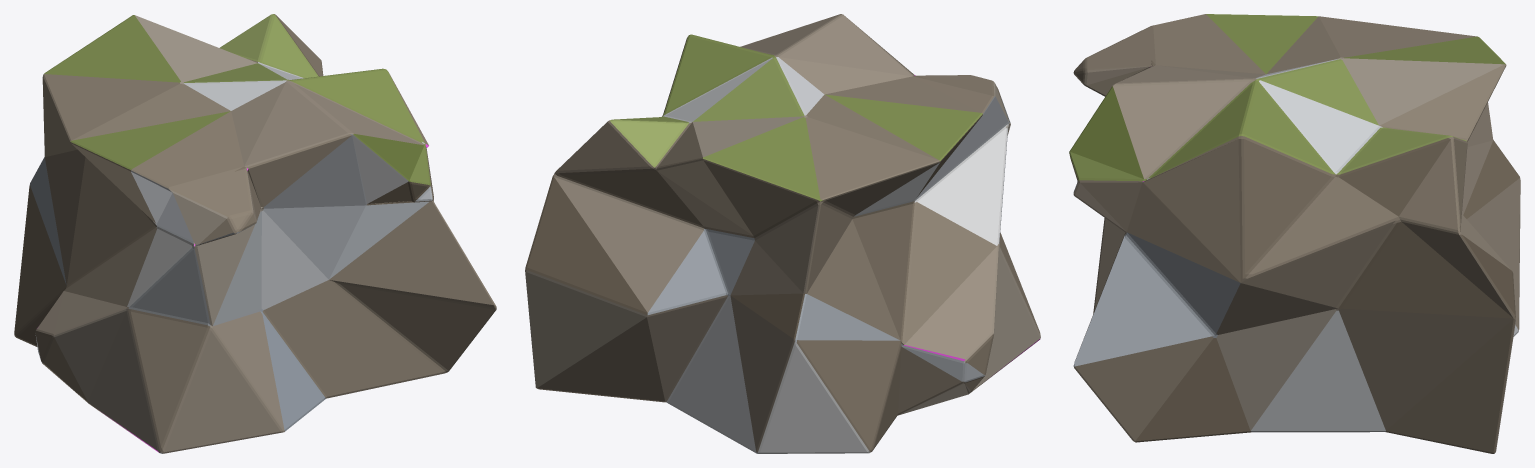
File: MineableSilver_b.fbx
3 renders of one model, left to right at view 1: azimuth 30°, elevation 25°; view 2: azimuth 150°, elevation 25°; view 3: azimuth 270°, elevation 25°, orthographic. The views are drawn at different scales.
Parts seen in each view (by area): view 1: MineableSilver_b; view 2: MineableSilver_b; view 3: MineableSilver_b.
Part boxes in pixels (x1,y1,x2,y2): MineableSilver_b: (14,14,496,453); MineableSilver_b: (525,14,1040,453); MineableSilver_b: (1069,14,1520,453).
Size of what is drawn, in the model's own units: 0.7977 by 0.6022 by 0.796.
